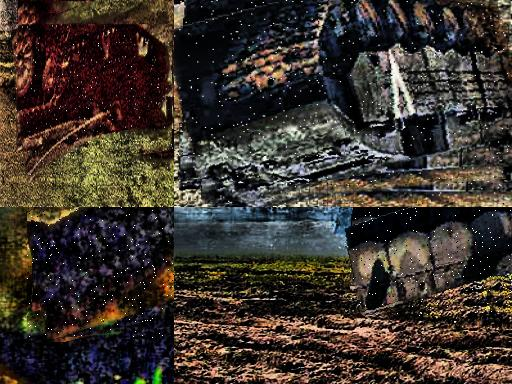tanks: (175, 1, 510, 205), (12, 26, 174, 180), (29, 208, 175, 340), (346, 208, 512, 317)
